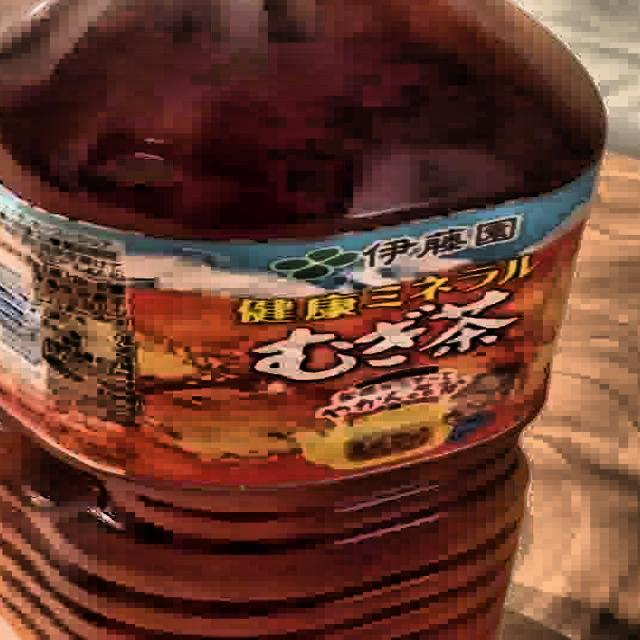plastic: (0, 0, 613, 640)
